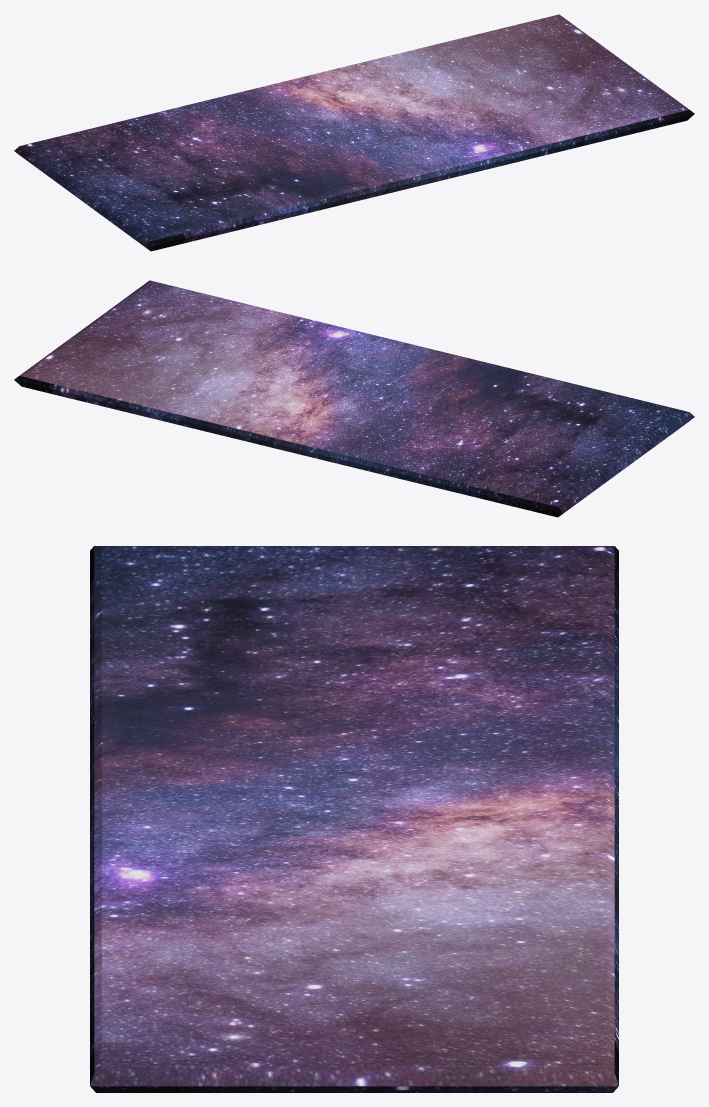
Rendered from ado_carpet.fbx.
3 renders of one model, top to bottom at view 1: azimuth 30°, elevation 25°; view 2: azimuth 150°, elevation 25°; view 3: azimuth 270°, elevation 25°, orthographic. The views are drawn at different scales.
Visible parts, largest first — view 1: tapis ado; view 2: tapis ado; view 3: tapis ado.
Boxes of the visible parts, <box> form: tapis ado: <box>14,14,694,251</box>; tapis ado: <box>14,280,694,517</box>; tapis ado: <box>90,546,618,1092</box>.
Bounding box in the file's own units: 351 × 7.83 × 146.
1 material, 1 textured.
